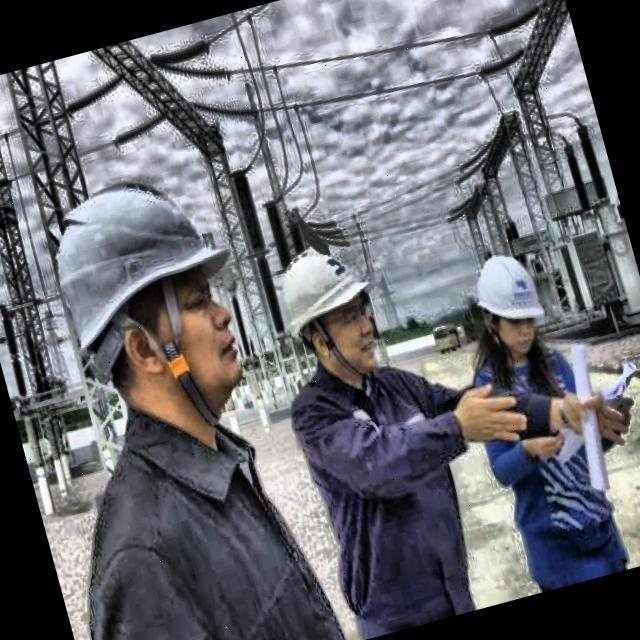helmet: (8, 135, 282, 459), (262, 223, 402, 400), (460, 239, 554, 364)
